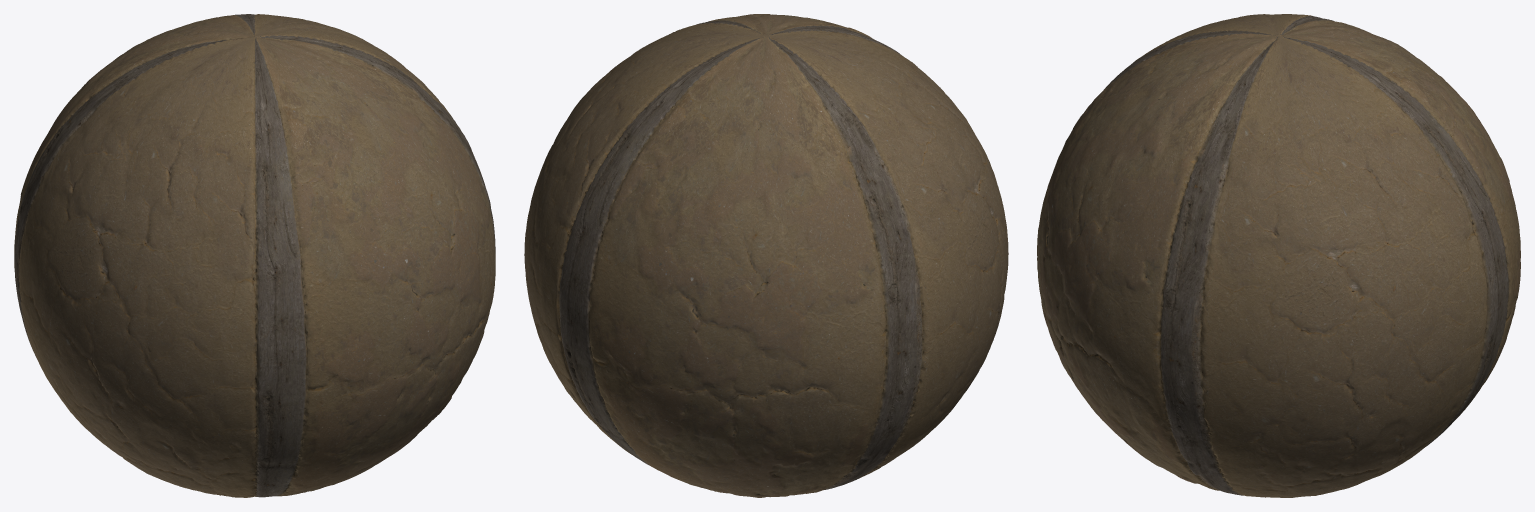
File: yellow_plaster_02_2k.gltf
3 renders of one model, left to right at view 1: azimuth 30°, elevation 25°; view 2: azimuth 150°, elevation 25°; view 3: azimuth 270°, elevation 25°, orthographic.
Visible parts, largest first — view 1: sphere_gltf; view 2: sphere_gltf; view 3: sphere_gltf.
Boxes of the visible parts, x1,y1,x2,y2 form: sphere_gltf: (14, 14, 495, 497); sphere_gltf: (524, 14, 1008, 497); sphere_gltf: (1037, 14, 1520, 497).
Bounding box in the file's own units: 2.01 × 2.03 × 2.02.
1 material, 1 textured.
